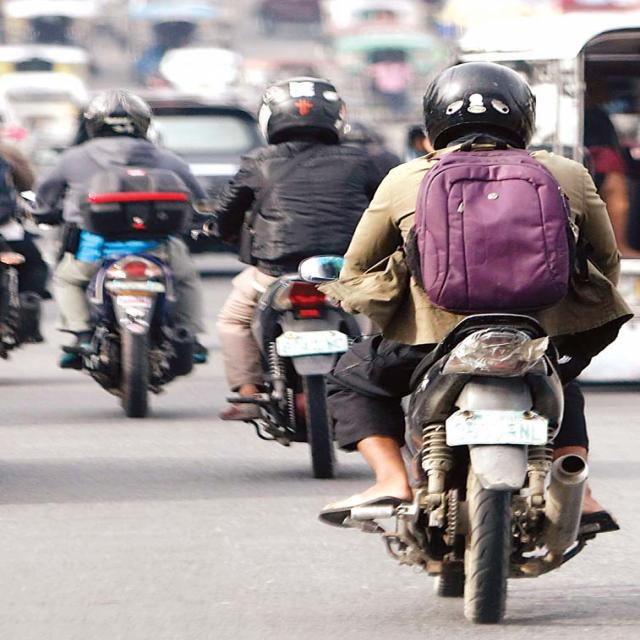With Helmet: (325, 58, 631, 634), (15, 81, 220, 432)
